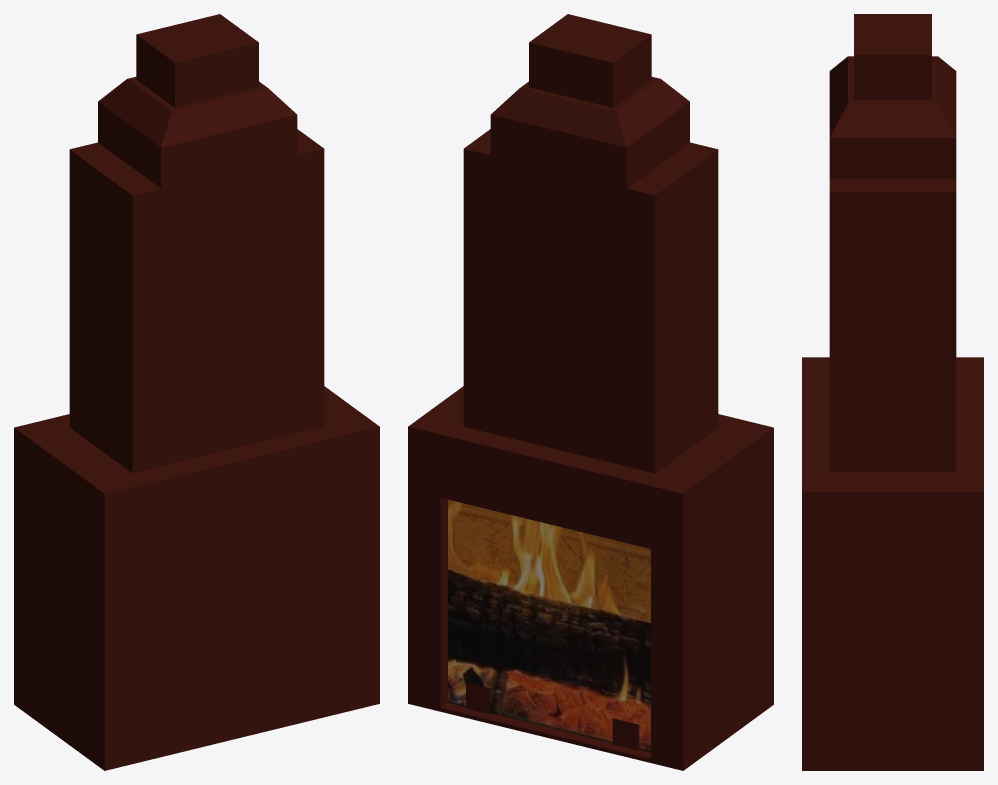
Rendered from fire.fbx.
3 views of the same model, side by side, from view 1: azimuth 30°, elevation 25°; view 2: azimuth 150°, elevation 25°; view 3: azimuth 270°, elevation 25° (orthographic).
Parts seen in each view (by area): view 1: FIRE PLACE; view 2: FIRE PLACE; view 3: FIRE PLACE.
Part boxes in pixels (bbox=[...]): FIRE PLACE: bbox=[14, 14, 379, 770]; FIRE PLACE: bbox=[408, 14, 773, 770]; FIRE PLACE: bbox=[802, 14, 983, 770].
Size of the model in its own units: 447 by 1034 by 255.
Materials: 2 (1 with a texture image).
